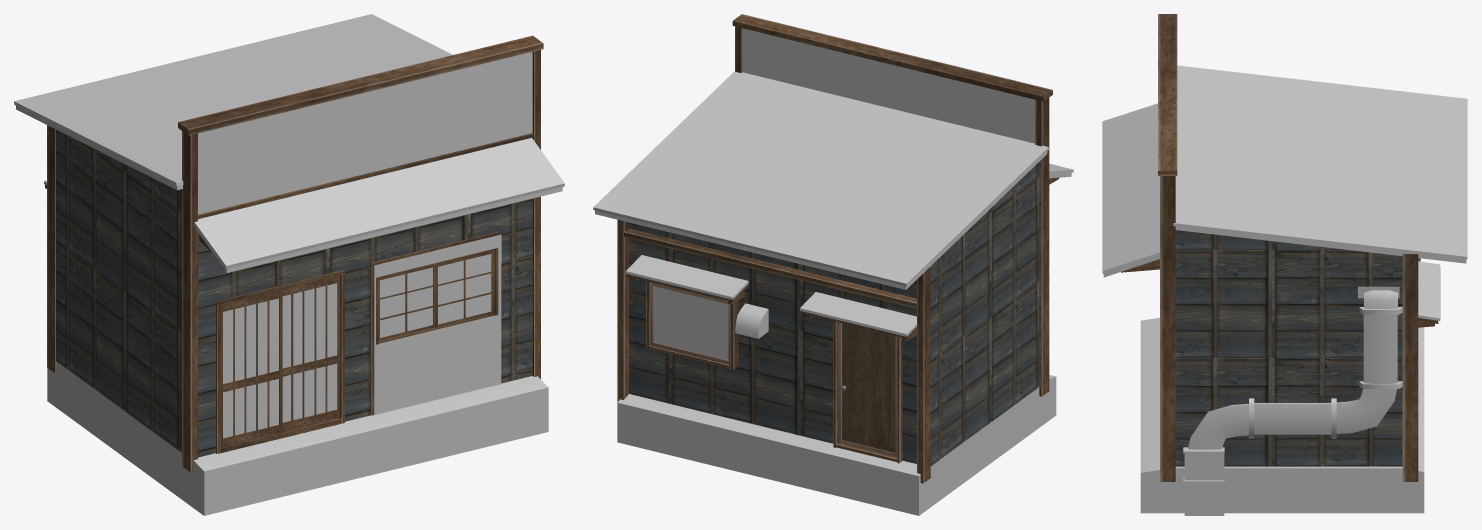
Rendered from ms_small_2k.fbx.
The picture shows the model from 3 angles, left to right: view 1: azimuth 30°, elevation 25°; view 2: azimuth 150°, elevation 25°; view 3: azimuth 270°, elevation 25°; orthographic projection. The views are drawn at different scales.
Visible parts, largest first — view 1: ms_small_2k; view 2: ms_small_2k; view 3: ms_small_2k.
Part boxes in pixels (bbox=[...]): ms_small_2k: bbox=[14, 14, 564, 515]; ms_small_2k: bbox=[593, 14, 1073, 515]; ms_small_2k: bbox=[1102, 14, 1467, 515].
Bounding box in the file's own units: 610 × 618 × 592.
